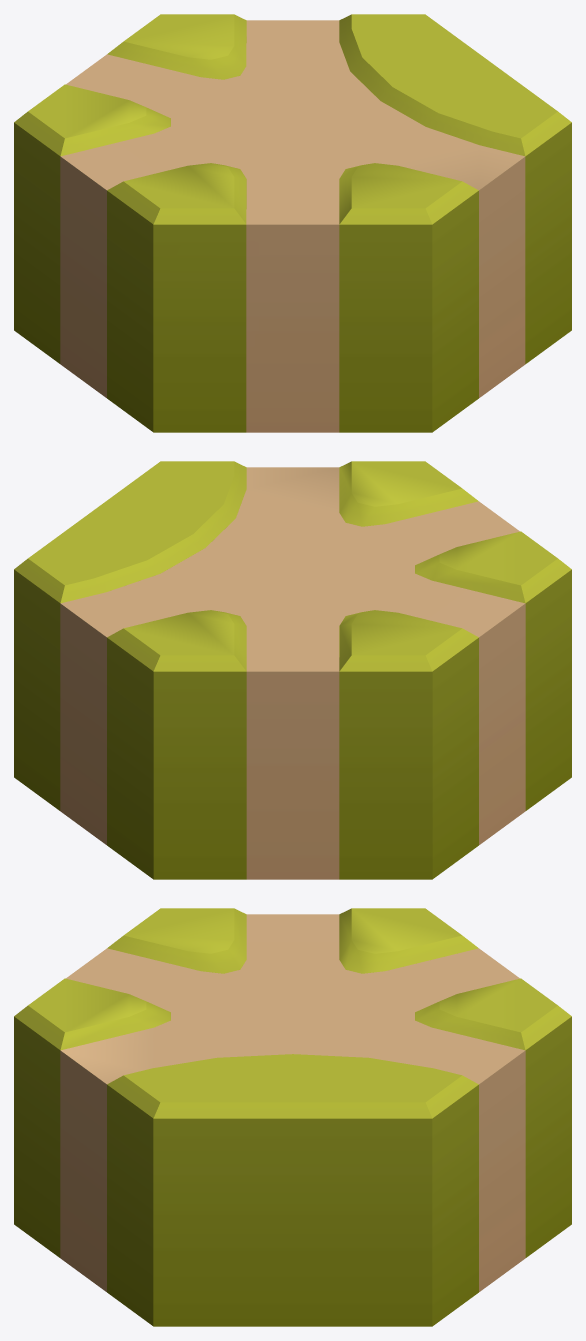
File: kaykit-medieval-hexagon-pack-hex-road-k.glb
The picture shows the model from 3 angles, top to bottom: view 1: azimuth 30°, elevation 25°; view 2: azimuth 150°, elevation 25°; view 3: azimuth 270°, elevation 25°; orthographic projection.
Parts seen in each view (by area): view 1: hex_road_K; view 2: hex_road_K; view 3: hex_road_K.
Part boxes in pixels (x1=…): hex_road_K: x1=14, y1=14, x2=571, y2=432; hex_road_K: x1=14, y1=461, x2=571, y2=879; hex_road_K: x1=14, y1=908, x2=571, y2=1326.
Size of the model in its own units: 2 by 1 by 2.31.
Materials: 1 (1 with a texture image).
